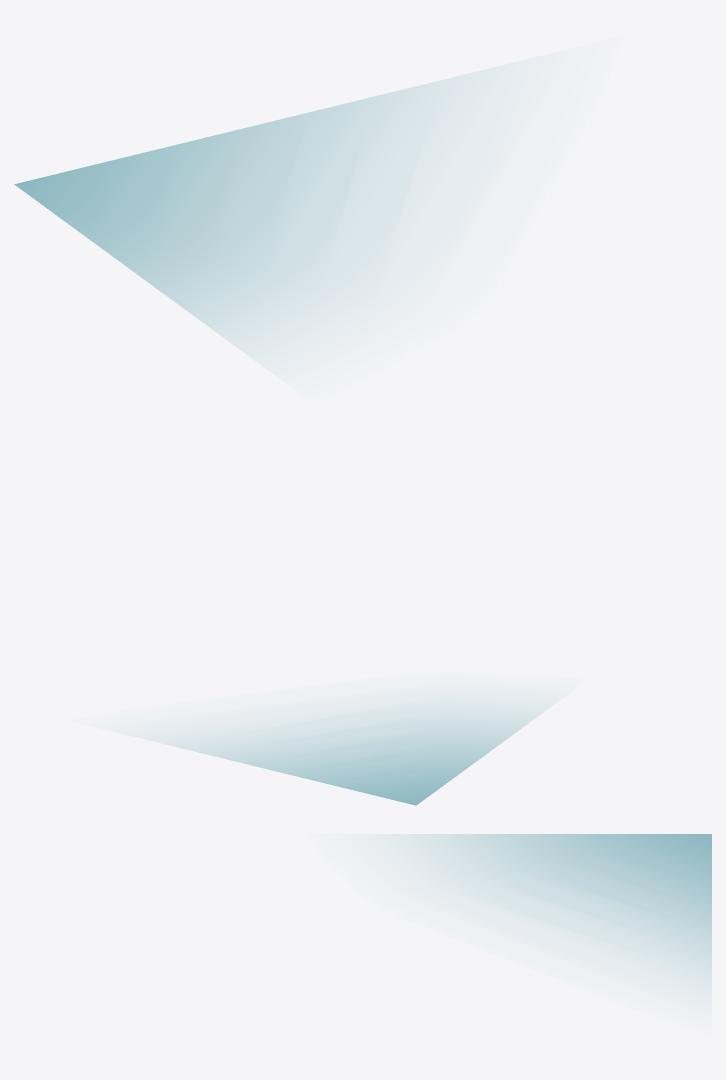
3 renders of one model, top to bottom at view 1: azimuth 30°, elevation 25°; view 2: azimuth 150°, elevation 25°; view 3: azimuth 270°, elevation 25°, orthographic. The views are drawn at different scales.
Visible parts, largest first — view 1: city; view 2: city; view 3: city.
Part boxes in pixels (bbox=[...]): city: bbox=[14, 69, 488, 355]; city: bbox=[145, 700, 550, 805]; city: bbox=[392, 834, 711, 991].
Size of the model in its own units: 393 by 0 by 500.
